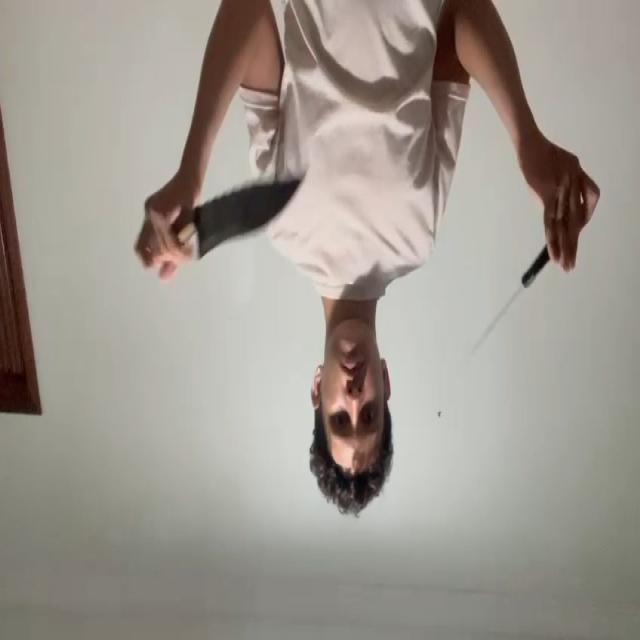knife: (198, 181, 302, 263)
